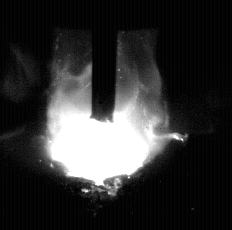arame: (93, 0, 117, 123)
poca: (46, 0, 170, 230)
